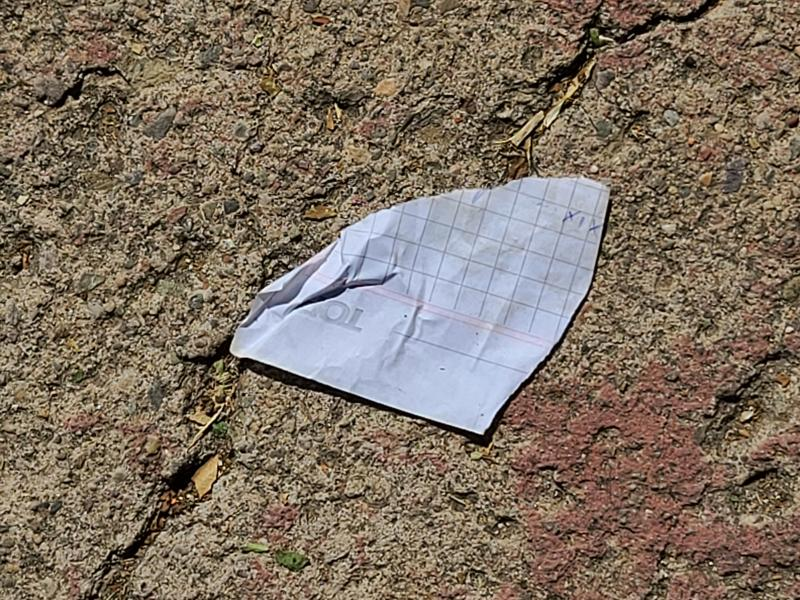papel: (228, 177, 613, 447)
